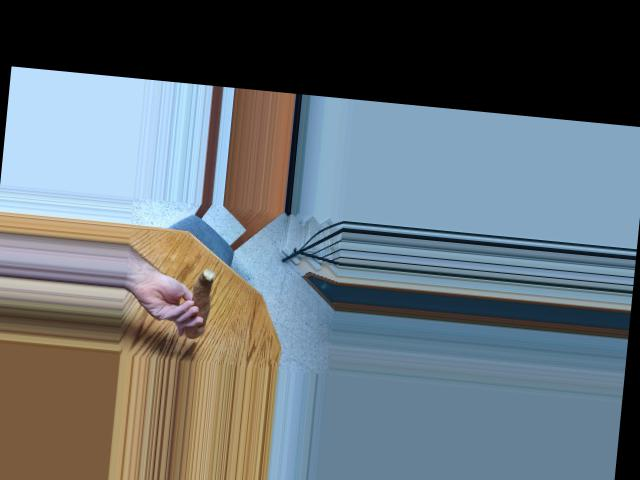sweet_potato: (185, 261, 215, 340)
